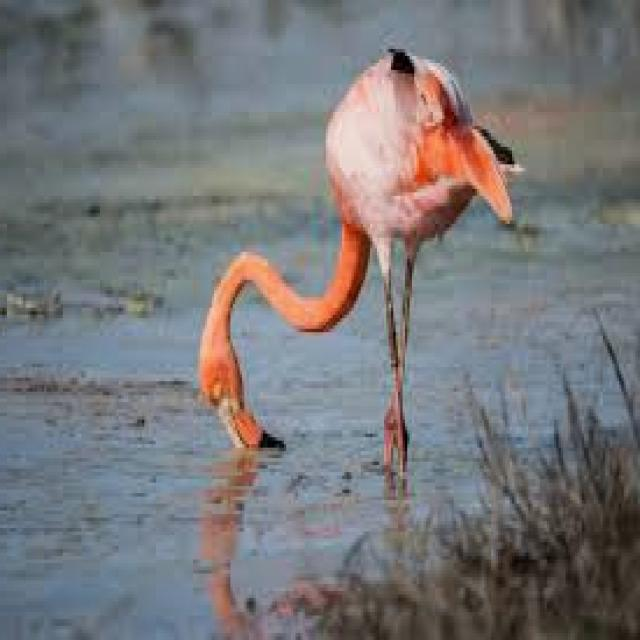flamingo: (200, 49, 524, 469)
